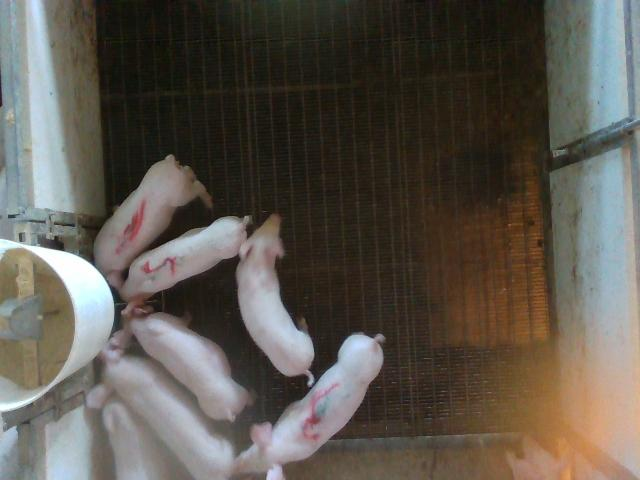pig-1: (95, 155, 212, 291)
pig-3: (234, 335, 385, 479)
pig-5: (120, 217, 250, 301)
